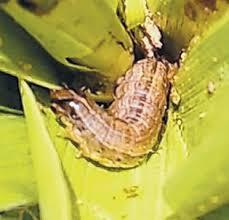fallarmy_worm: (34, 53, 174, 172)
